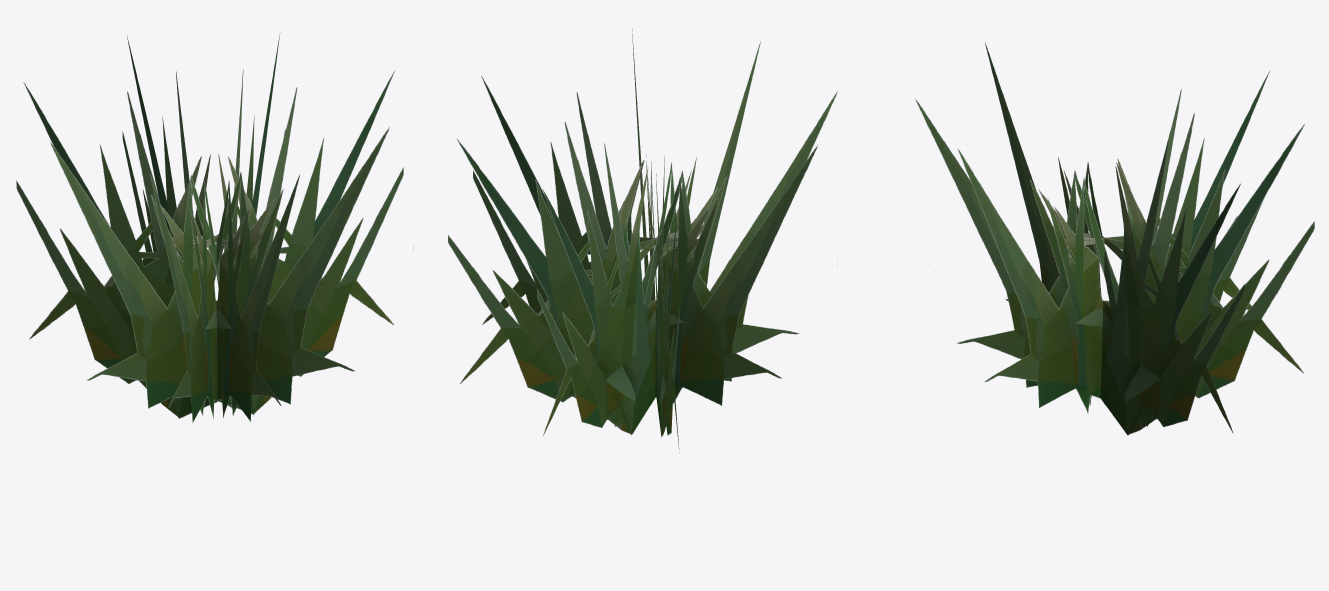
Rendered from Unmowed_Billboard_000_0.glb.
3 renders of one model, left to right at view 1: azimuth 30°, elevation 25°; view 2: azimuth 150°, elevation 25°; view 3: azimuth 270°, elevation 25°, orthographic. The views are drawn at different scales.
Parts seen in each view (by area): view 1: MeshInstance3D; view 2: MeshInstance3D; view 3: MeshInstance3D.
Boxes of the visible parts, left/top/right/bottom form: MeshInstance3D: left=16, top=32, right=413, bottom=423; MeshInstance3D: left=448, top=29, right=837, bottom=452; MeshInstance3D: left=915, top=42, right=1314, bottom=435.
Bounding box in the file's own units: 1 × 1.02 × 0.9973.
Materials: 4 (4 with a texture image).
